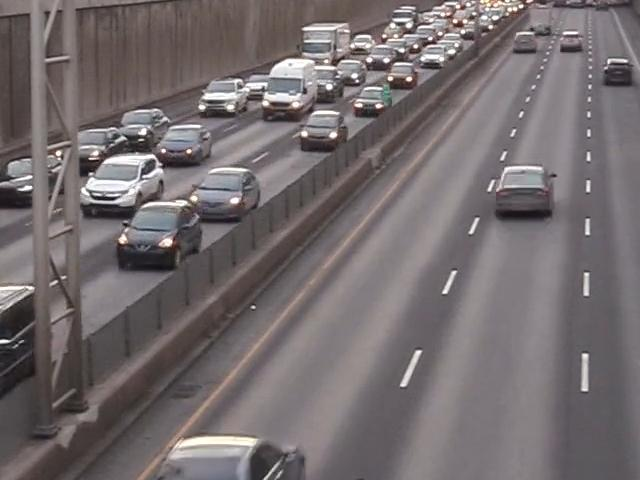car: (0, 286, 78, 414), (118, 441, 323, 480), (116, 199, 200, 271), (80, 153, 163, 216), (0, 151, 69, 209), (192, 168, 262, 224), (492, 164, 559, 220), (55, 128, 127, 172), (115, 107, 173, 149), (158, 122, 211, 166), (198, 77, 251, 117), (298, 109, 348, 151), (351, 83, 390, 117), (331, 58, 367, 92), (312, 66, 345, 101), (288, 56, 324, 87), (601, 56, 633, 85), (386, 61, 419, 89), (365, 45, 399, 71), (416, 45, 449, 71), (436, 35, 466, 59), (243, 76, 270, 99), (349, 35, 375, 58)
truck: (300, 22, 350, 67)
van: (264, 57, 320, 119)
